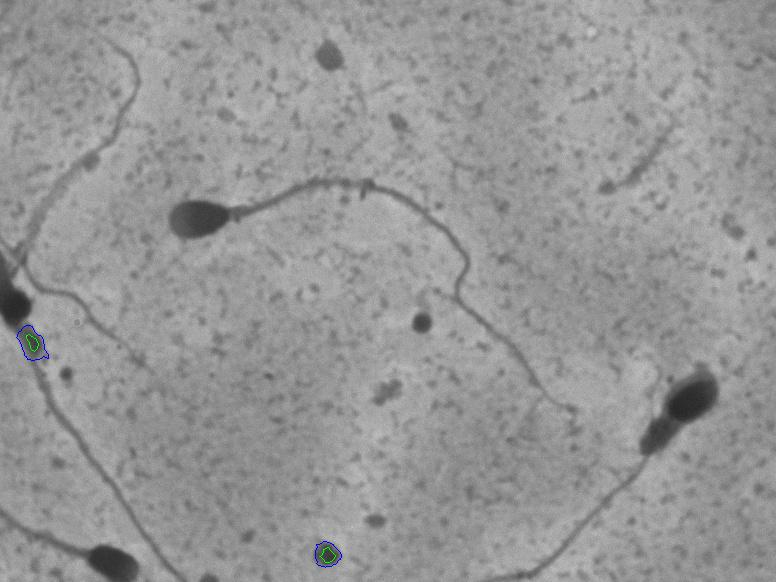Abnormal: (566, 325, 749, 534)
Normal: (127, 109, 587, 407)
